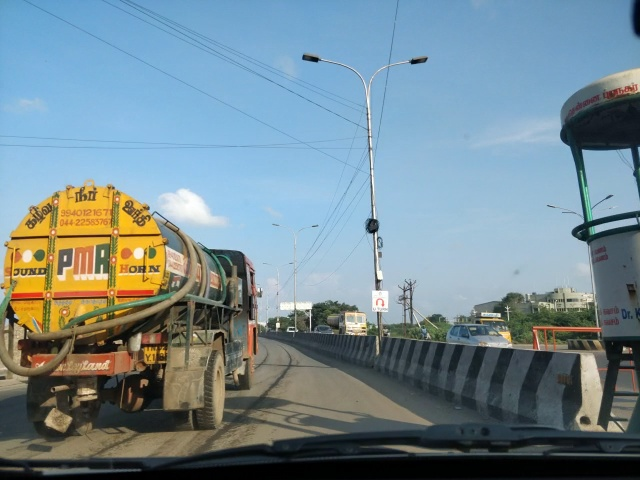bus: (329, 310, 366, 337)
car: (446, 321, 508, 369), (325, 308, 369, 351), (466, 309, 517, 340), (450, 324, 515, 347), (308, 319, 335, 342), (312, 320, 335, 336), (286, 325, 300, 332)
person: (417, 320, 431, 339)
truck: (7, 183, 270, 438)
